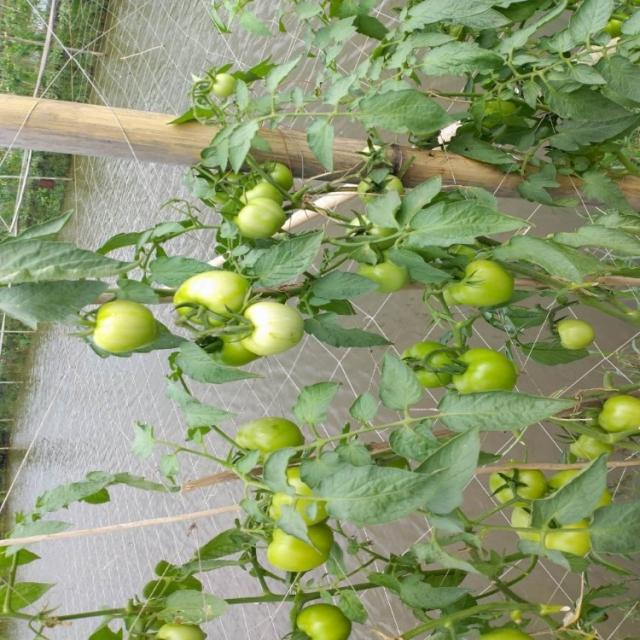tomato: (173, 261, 254, 327), (445, 249, 519, 319), (260, 514, 338, 580), (238, 300, 317, 363), (453, 343, 526, 407), (520, 503, 589, 565), (274, 467, 337, 527), (90, 293, 154, 351), (231, 198, 292, 254), (399, 333, 451, 391), (244, 408, 296, 466), (481, 459, 547, 504), (353, 254, 412, 301), (358, 157, 412, 208), (593, 381, 640, 438), (230, 162, 290, 205), (556, 312, 607, 360), (293, 600, 347, 640), (336, 214, 391, 251), (571, 421, 611, 467), (145, 616, 213, 640), (201, 66, 237, 102)
